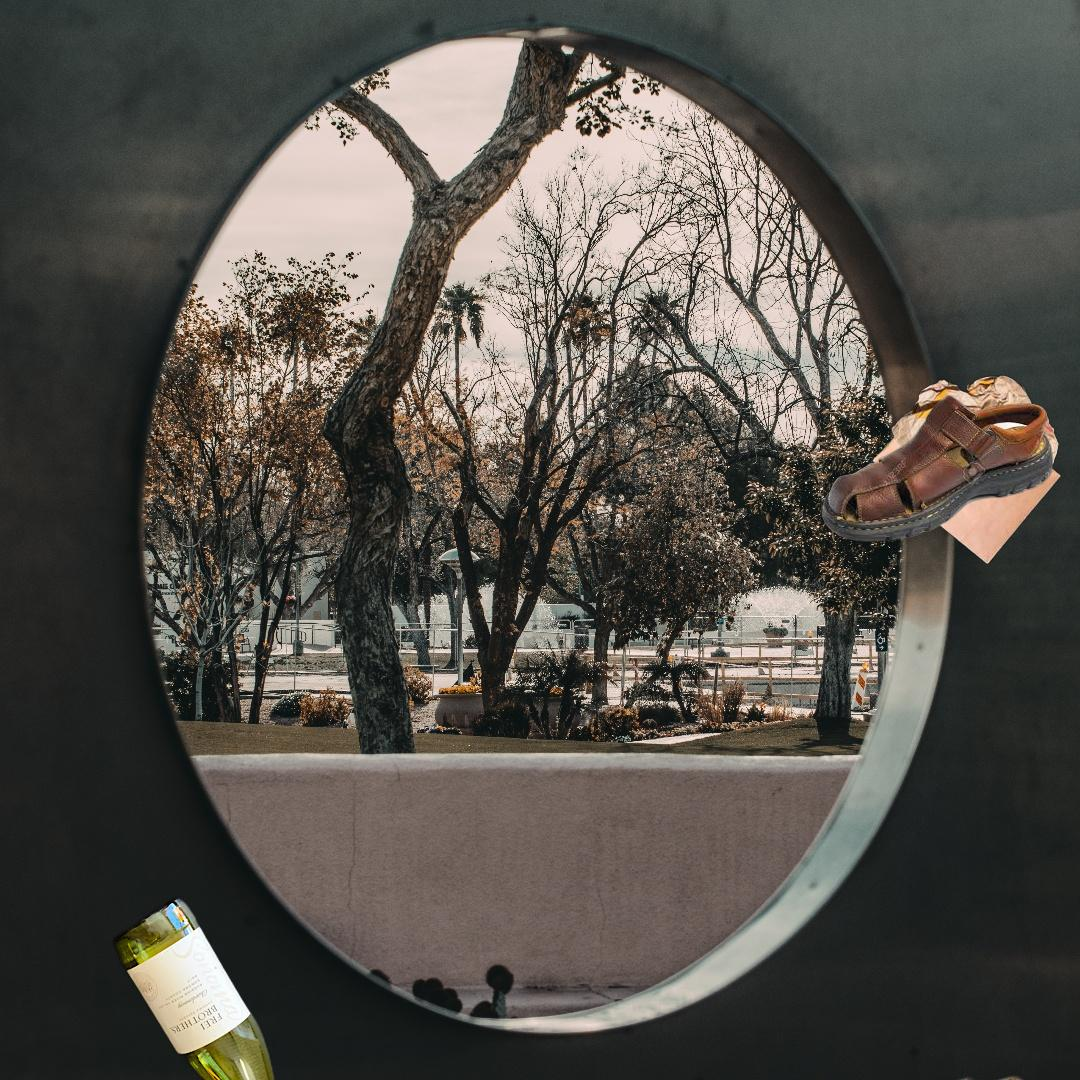glass: (109, 891, 326, 1080)
paper-bag: (868, 372, 1064, 566), (323, 991, 581, 1080)
shoes: (819, 392, 1054, 545)
trashbox-cardboard: (324, 1052, 1080, 1080)
